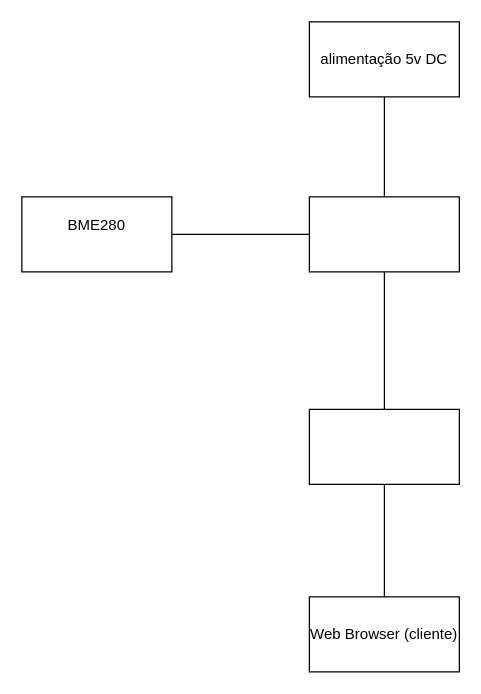
This 481x694 diagram has some shape labels left out. Each missing label, with the centre of its shape:
"Roteador WIFI" belongs at (x=383, y=446).
"rpi3b (Servidor e processamento)" belongs at (x=383, y=234).
